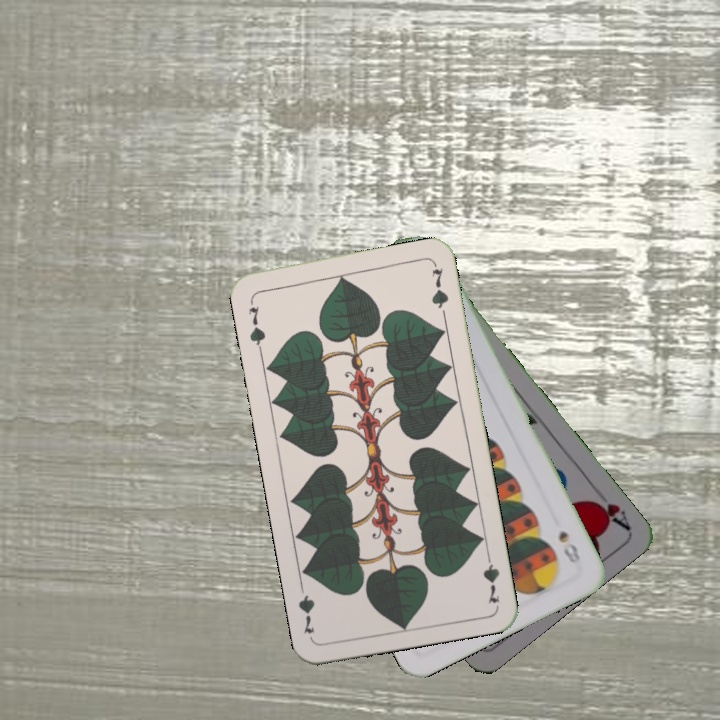G7: (479, 547, 502, 607), (244, 302, 268, 354)
HA: (585, 495, 633, 532)
S8: (554, 527, 583, 566)
